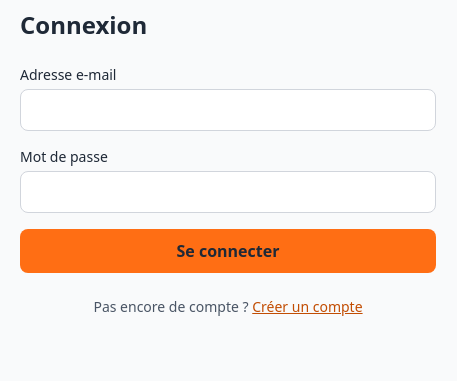
Test case: page de connexion › vérifie les champs avant tout appel réseau
Type "pas-un-email" into the field labelled "Adresse e-mail" at [228, 110], box [20, 89, 436, 131]
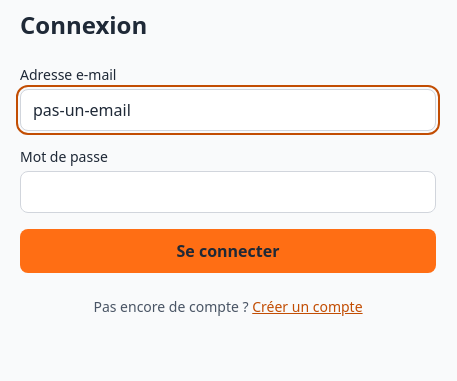
Click the button "Se connecter" at [228, 251], box [20, 229, 436, 273]
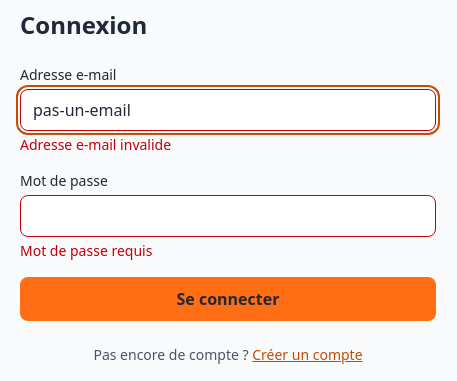
Expected: the text "Adresse e-mail invalide" is shown, [20, 135, 171, 154]
Expected: the text "Mot de passe requis" is shown, [20, 241, 152, 260]
